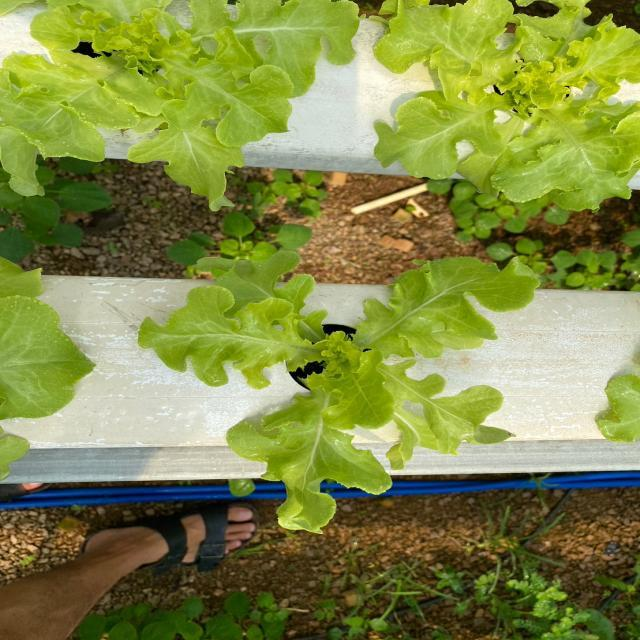Lettuce-Not-Ready-to-Harvest: (164, 247, 531, 520), (0, 0, 364, 207), (377, 0, 640, 215)
